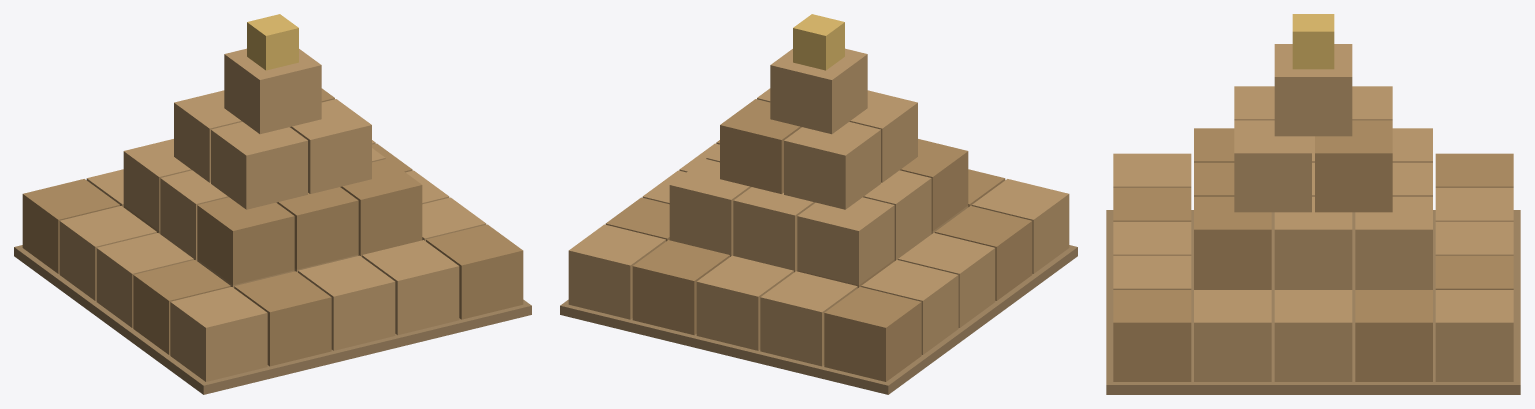
Rendered from monument.glb.
3 renders of one model, left to right at view 1: azimuth 30°, elevation 25°; view 2: azimuth 150°, elevation 25°; view 3: azimuth 270°, elevation 25°, orthographic. The views are drawn at different scales.
Parts seen in each view (by area): view 1: Block04, Foundation, Block27, Block35, Block38, Block09, Block19, Block14, Block24, Block33, Block37, Block30 (+11 smaller); view 2: Block00, Foundation, Block25, Block34, Block38, Block05, Block15, Block10, Block20, Block31, Block36, Block28 (+11 smaller); view 3: Foundation, Block20, Block22, Block24, Block21, Block23, Block36, Block37, Block31, Block33, Block38, Block32 (+15 smaller).
Part boxes in pixels (box(x1,y1,x2,y2)): Block04: box(170, 287, 267, 381); Foundation: box(14, 245, 531, 394); Block27: box(197, 197, 294, 285); Block35: box(211, 122, 307, 209); Block38: box(224, 48, 321, 134); Block09: box(234, 271, 331, 366); Block19: box(362, 240, 459, 335); Block14: box(298, 255, 395, 350); Block24: box(426, 224, 523, 319); Block33: box(340, 159, 422, 253); Block37: box(290, 99, 371, 193); Block30: box(276, 187, 358, 269); Block00: box(824, 287, 921, 381); Foundation: box(560, 245, 1077, 394); Block25: box(797, 197, 894, 285); Block34: box(784, 122, 880, 209); Block38: box(770, 48, 867, 134); Block05: box(760, 271, 857, 366); Block15: box(632, 240, 729, 335); Block10: box(696, 255, 793, 350); Block20: box(568, 224, 665, 319); Block31: box(669, 159, 751, 253); Block36: box(720, 99, 801, 193); Block28: box(733, 187, 815, 269); Foundation: box(1106, 210, 1520, 394); Block20: box(1435, 290, 1513, 381); Block22: box(1274, 290, 1352, 381); Block24: box(1113, 290, 1191, 381); Block21: box(1355, 290, 1432, 381); Block23: box(1194, 290, 1271, 381); Block36: box(1315, 120, 1392, 212); Block37: box(1234, 120, 1311, 212); Block31: box(1355, 196, 1432, 288); Block33: box(1194, 196, 1271, 288); Block38: box(1274, 44, 1352, 136); Block32: box(1274, 196, 1352, 288).
Size of the model in its own units: 5.96 by 4.52 by 5.96.
